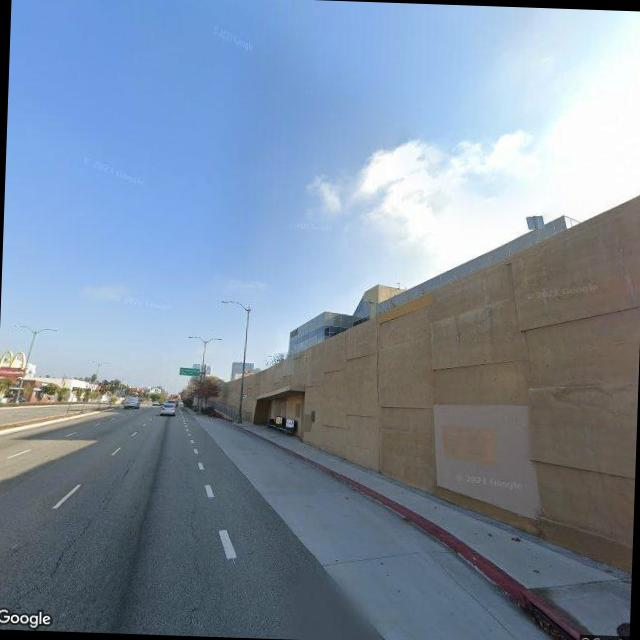crack: (9, 516, 94, 608)
